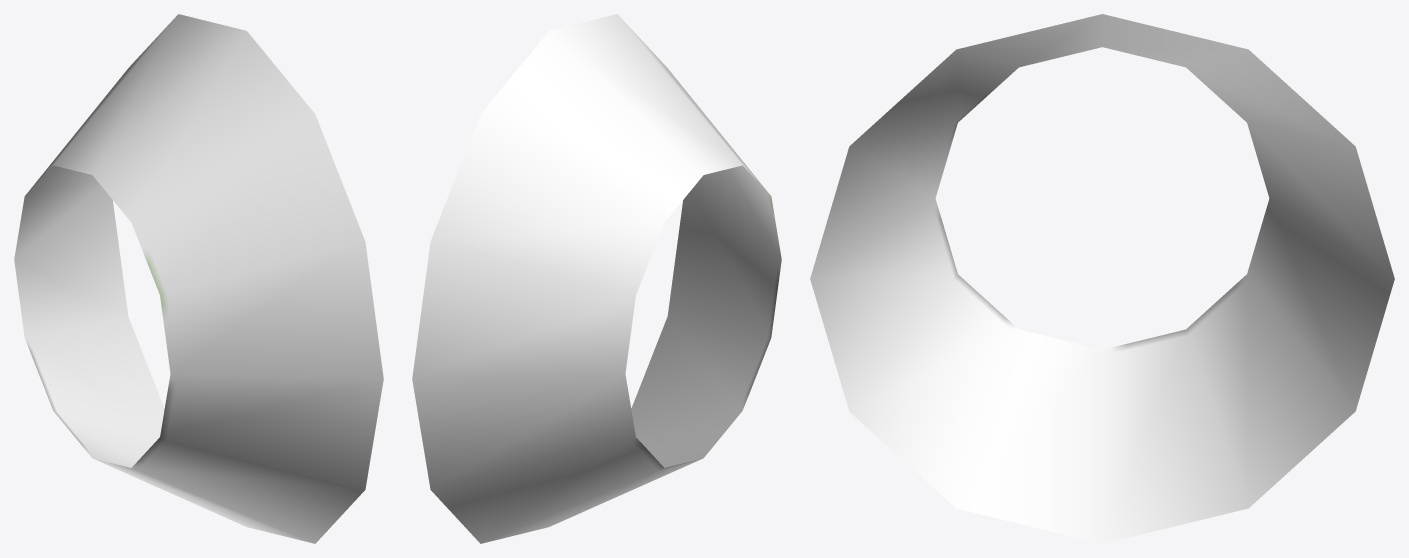
File: fx_speedlines2.fbx
3 views of the same model, side by side, from view 1: azimuth 30°, elevation 25°; view 2: azimuth 150°, elevation 25°; view 3: azimuth 270°, elevation 25° (orthographic). The views are drawn at different scales.
Parts seen in each view (by area): view 1: FX_speedlines; view 2: FX_speedlines; view 3: FX_speedlines.
Boxes of the visible parts, x1,y1,x2,y2 form: FX_speedlines: (14, 14, 383, 543); FX_speedlines: (412, 14, 781, 543); FX_speedlines: (810, 14, 1394, 543).
Bounding box in the file's own units: 85.64 × 263 × 263.
Materials: 1 (1 with a texture image).
